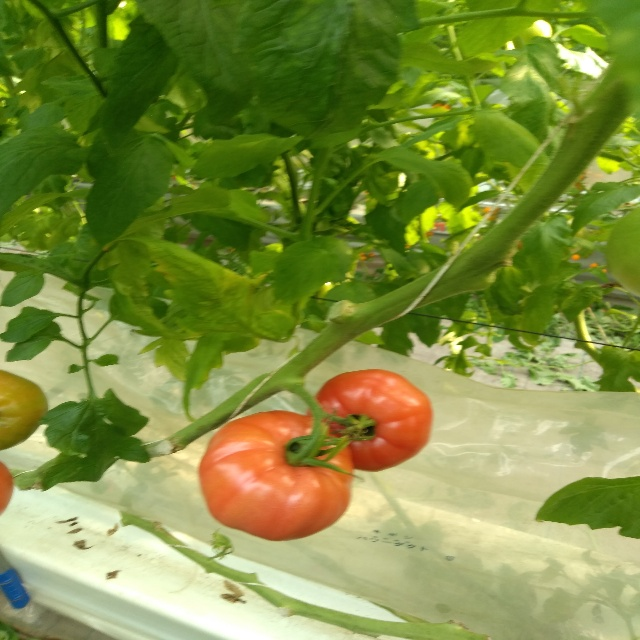b_fully_ripened: (198, 410, 354, 541), (306, 368, 432, 472)
b_green: (0, 370, 48, 451)
